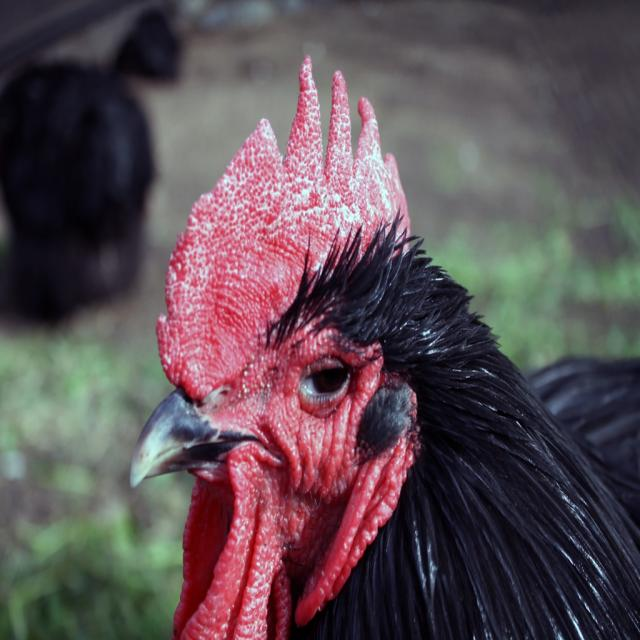Chicken: (129, 54, 640, 640)
